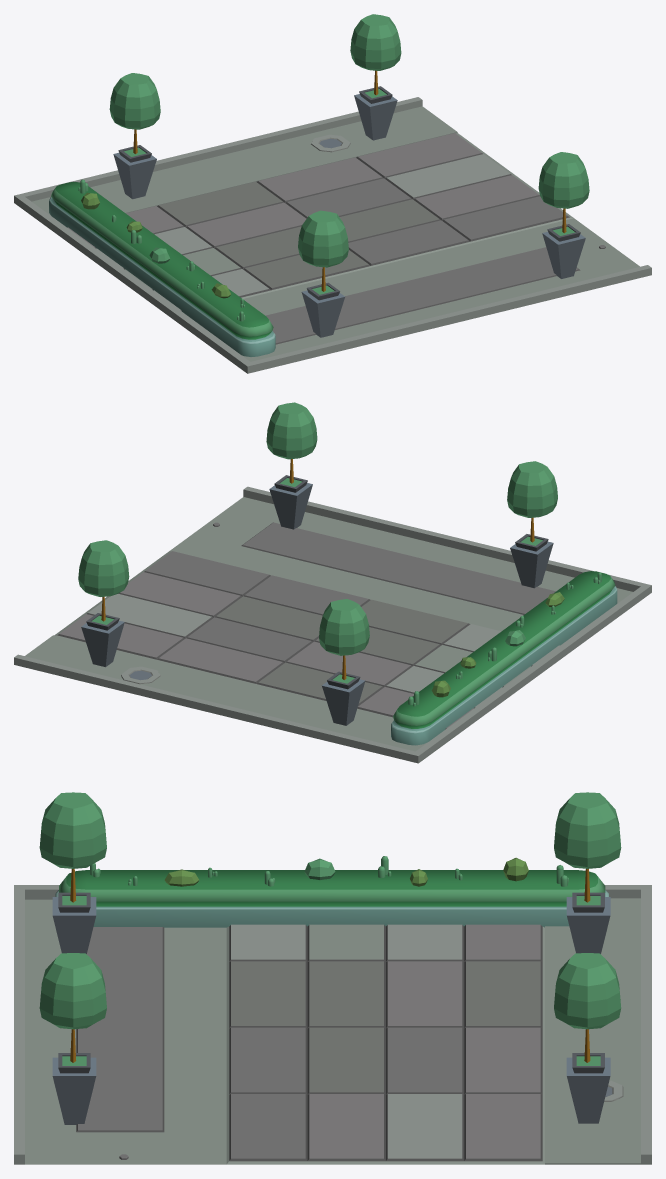
Rendered from DeadEnd_C.gltf.
3 renders of one model, top to bottom at view 1: azimuth 30°, elevation 25°; view 2: azimuth 150°, elevation 25°; view 3: azimuth 270°, elevation 25°, orthographic. The views are drawn at different scales.
Parts seen in each view (by area): view 1: Scifi_Panel_02 Plaza014_group4.026; view 2: Scifi_Panel_02 Plaza014_group4.026; view 3: Scifi_Panel_02 Plaza014_group4.026.
Part boxes in pixels (bbox=[...]): Scifi_Panel_02 Plaza014_group4.026: bbox=[14, 14, 651, 373]; Scifi_Panel_02 Plaza014_group4.026: bbox=[14, 402, 651, 763]; Scifi_Panel_02 Plaza014_group4.026: bbox=[14, 792, 651, 1164].
Size of what is drawn, in the model's own units: 10 by 2.78 by 10.
1 material, 1 textured.
